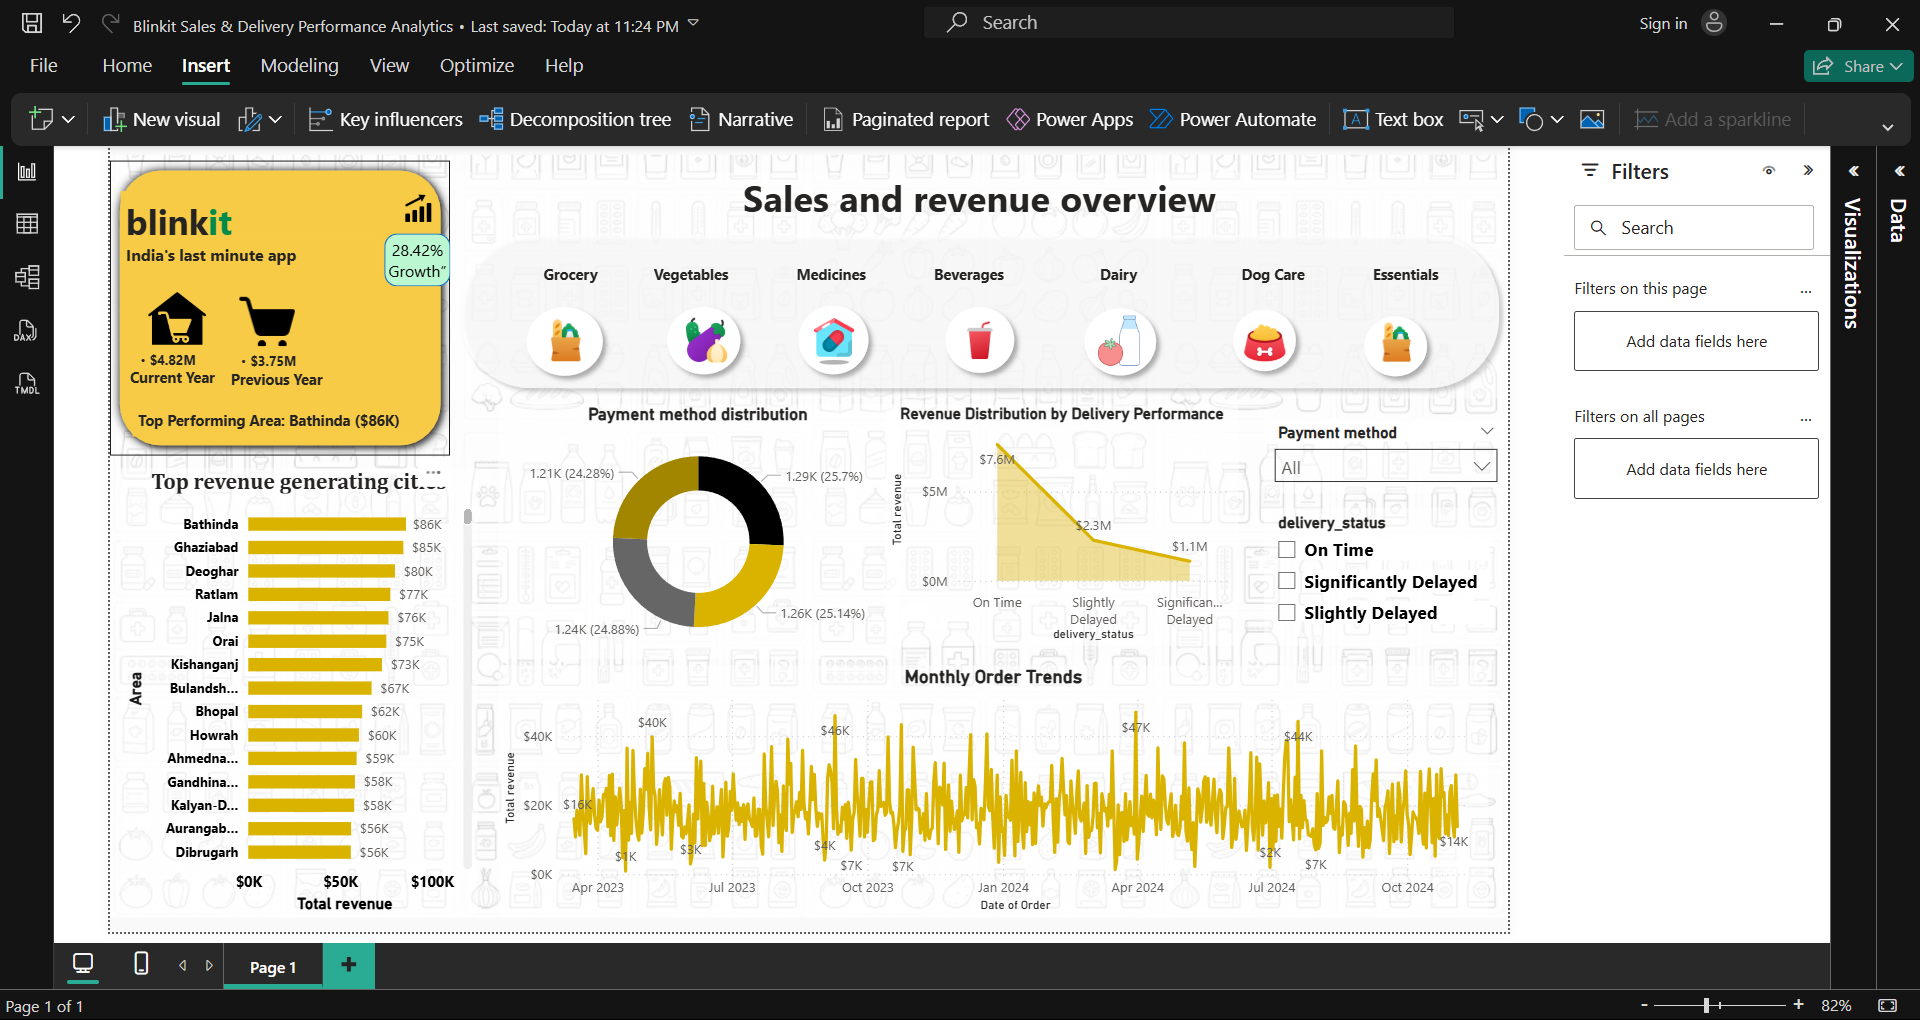

This screenshot's page, from the dashboard's own definition file:
{"tool":"powerbi","page":{"name":"Page 1","canvas":[1280,720],"ordinal":0},"visuals":[{"type":"lineChart","title":"Monthly Order Trends","fields":{"Category":["blinkit_db view_blinkit_dashboard.Order_Date"],"Y":["Sum(blinkit_db view_blinkit_dashboard.Order_Total)"]},"box":[355,475.9,906.7,230],"z":0},{"type":"clusteredBarChart","title":"Top revenue generating cities","fields":{"Category":["blinkit_db view_blinkit_dashboard.area"],"Y":["Sum(blinkit_db view_blinkit_dashboard.Order_Total)"]},"box":[9.4,294.2,326.6,411.6],"z":1000},{"type":"slicer","fields":{"Values":["blinkit_db view_blinkit_dashboard.payment_method"]},"box":[1056.7,248.6,223.3,69.1],"z":2000},{"type":"slicer","fields":{"Values":["blinkit_db view_blinkit_dashboard.delivery_status"]},"box":[1056.9,330.6,211.9,126.8],"z":3000},{"type":"donutChart","title":"Payment method distribution","fields":{"Category":["blinkit_db view_blinkit_dashboard.payment_method"],"Y":["CountNonNull(blinkit_db view_blinkit_dashboard.Order_ID)"]},"box":[354.9,236.1,365.7,233.4],"z":4000},{"type":"shape","box":[0,13.5,311.7,269.9],"z":5000},{"type":"shape","title":"Growth","box":[251,79.6,60.7,48.6],"z":6000},{"type":"shape","title":"Sales and revenue overview","box":[311.7,24.3,968.9,206.5],"z":7000},{"type":"shape","box":[372.2,138.3,87.7,81.1],"z":8000},{"type":"shape","box":[501.2,138.3,85.1,79.8],"z":9000},{"type":"shape","box":[620.7,137.6,82.3,81],"z":10000},{"type":"shape","box":[1018.4,140.9,75.8,74.4],"z":11000},{"type":"shape","box":[882.5,205.1,106.6,14.8],"z":12000},{"type":"shape","box":[755.1,138.3,81.1,78.4],"z":13000},{"type":"image","box":[394.8,155.5,43.9,45.2],"z":14000},{"type":"image","box":[519.8,155.5,49.2,45.2],"z":15000},{"type":"image","box":[638.3,153.8,49.9,45.9],"z":16000},{"type":"image","box":[776.4,155.5,39.9,45.2],"z":17000},{"type":"image","box":[1033,154.2,47.9,50.5],"z":19000},{"type":"image","box":[33.7,128.2,55.3,66.1],"z":20000},{"type":"shape","box":[1139.3,146.2,75.8,73.1],"z":21000},{"type":"image","box":[1156.6,158.2,41.2,43.9],"z":22000},{"type":"areaChart","title":"Revenue Distribution by Delivery Performance","fields":{"Category":["blinkit_db view_blinkit_dashboard.delivery_status"],"Y":["Sum(blinkit_db view_blinkit_dashboard.Order_Total)"]},"box":[709.8,236.1,323.9,221.3],"z":23000},{"type":"textbox","box":[392.2,103.7,840.2,34.6],"z":24000},{"type":"textbox","box":[9.4,41.8,118.7,62.1],"z":25000},{"type":"textbox","box":[9.4,83.7,236.1,31],"z":26000},{"type":"image","box":[116,124.1,56.7,78.3],"z":27000},{"type":"textbox","box":[13.5,182.2,95.8,64.8],"z":28000},{"type":"textbox","box":[105.3,183.5,103.9,64.8],"z":29000},{"type":"textbox","box":[20.2,236.1,259.1,29.7],"z":30000},{"type":"image","box":[260.4,41.8,43.2,32.4],"z":31000},{"type":"shape","box":[882.5,139,83.7,79.6],"z":31001},{"type":"image","box":[898.7,153.8,49.9,48.6],"z":31002}]}

Visuals, with their boxes in screenshot pixels (x1, y1, x2, y2):
"Monthly Order Trends" lineChart: <region>531, 615, 1798, 936</region>
"Top revenue generating cities" clusteredBarChart: <region>48, 361, 504, 936</region>
slicer - blinkit_db view_blinkit_dashboard.payment_method: <region>1511, 297, 1823, 394</region>
slicer - blinkit_db view_blinkit_dashboard.delivery_status: <region>1512, 412, 1808, 589</region>
"Payment method distribution" donutChart: <region>531, 280, 1042, 606</region>
shape: <region>35, 0, 470, 346</region>
"Growth" shape: <region>386, 61, 470, 129</region>
"Sales and revenue overview" shape: <region>470, 0, 1824, 272</region>
shape: <region>555, 143, 678, 257</region>
shape: <region>735, 143, 854, 255</region>
shape: <region>902, 142, 1017, 255</region>
shape: <region>1458, 147, 1564, 251</region>
shape: <region>1268, 237, 1417, 257</region>
shape: <region>1090, 143, 1203, 253</region>
image: <region>587, 167, 648, 230</region>
image: <region>761, 167, 830, 230</region>
image: <region>927, 165, 996, 229</region>
image: <region>1120, 167, 1175, 230</region>
image: <region>1478, 165, 1545, 236</region>
image: <region>82, 129, 159, 221</region>
shape: <region>1627, 154, 1733, 256</region>
image: <region>1651, 171, 1708, 232</region>
"Revenue Distribution by Delivery Performance" areaChart: <region>1027, 280, 1479, 589</region>
textbox: <region>583, 95, 1757, 143</region>
textbox: <region>48, 8, 214, 95</region>
textbox: <region>48, 67, 378, 110</region>
image: <region>197, 123, 276, 233</region>
textbox: <region>54, 205, 188, 295</region>
textbox: <region>182, 206, 327, 297</region>
textbox: <region>63, 280, 425, 321</region>
image: <region>399, 8, 459, 54</region>
shape: <region>1268, 144, 1385, 255</region>
image: <region>1291, 165, 1360, 233</region>
